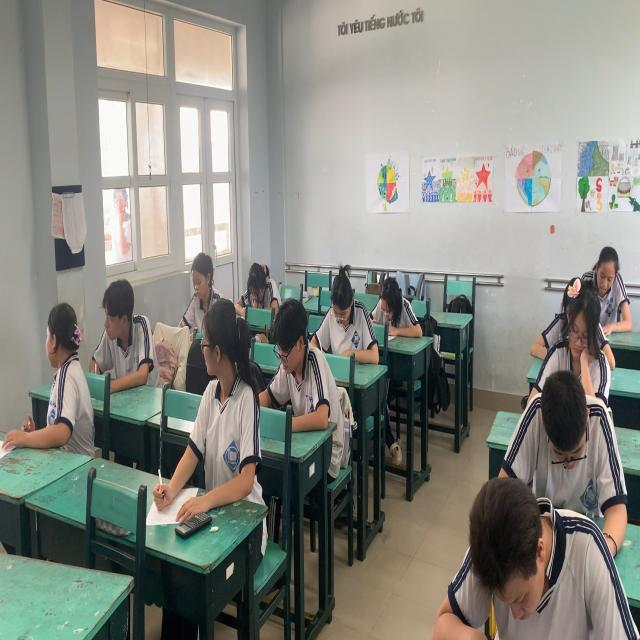cheating: (193, 296, 255, 522), (34, 296, 91, 457)
not_cheating: (447, 468, 611, 640), (522, 365, 606, 503), (263, 290, 323, 440), (95, 273, 157, 386), (322, 258, 366, 361), (586, 231, 628, 335), (558, 290, 598, 388), (376, 262, 416, 348), (183, 248, 219, 323), (240, 250, 276, 322)
